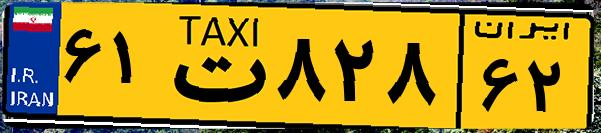1: (110, 28, 158, 98)
2: (330, 28, 385, 110), (525, 38, 570, 115)
6: (57, 26, 110, 100), (475, 38, 525, 113)
8: (270, 28, 330, 110), (385, 28, 445, 110)
ت: (158, 12, 270, 120)
